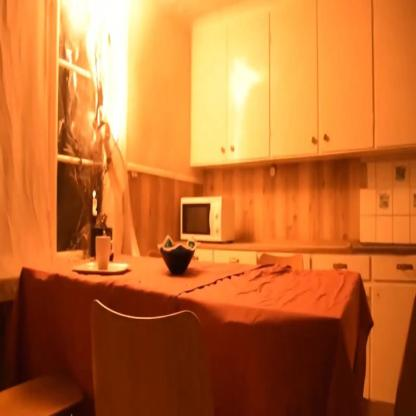fire: (66, 0, 128, 149), (92, 187, 96, 198)
